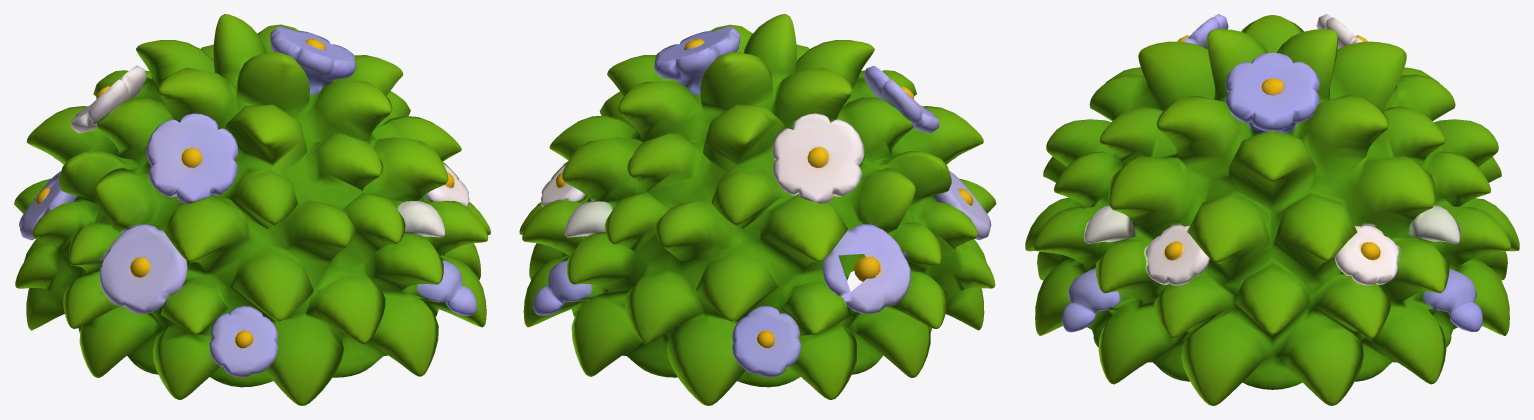
Rendered from NEW_FlowerBush_SM_tex4k_pbr_src.fbx.
The picture shows the model from 3 angles, left to right: view 1: azimuth 30°, elevation 25°; view 2: azimuth 150°, elevation 25°; view 3: azimuth 270°, elevation 25°; orthographic projection. The views are drawn at different scales.
Parts seen in each view (by area): view 1: tripo_9f984f1b_765b_4f89_9d6a_f5b0449751b1; view 2: tripo_9f984f1b_765b_4f89_9d6a_f5b0449751b1; view 3: tripo_9f984f1b_765b_4f89_9d6a_f5b0449751b1.
Boxes of the visible parts, x1,y1,x2,y2 form: tripo_9f984f1b_765b_4f89_9d6a_f5b0449751b1: (14,14,490,405); tripo_9f984f1b_765b_4f89_9d6a_f5b0449751b1: (519,14,996,405); tripo_9f984f1b_765b_4f89_9d6a_f5b0449751b1: (1025,14,1519,405).
Size of the model in its own units: 0.9956 by 0.6274 by 0.9995.
Materials: 1 (1 with a texture image).
